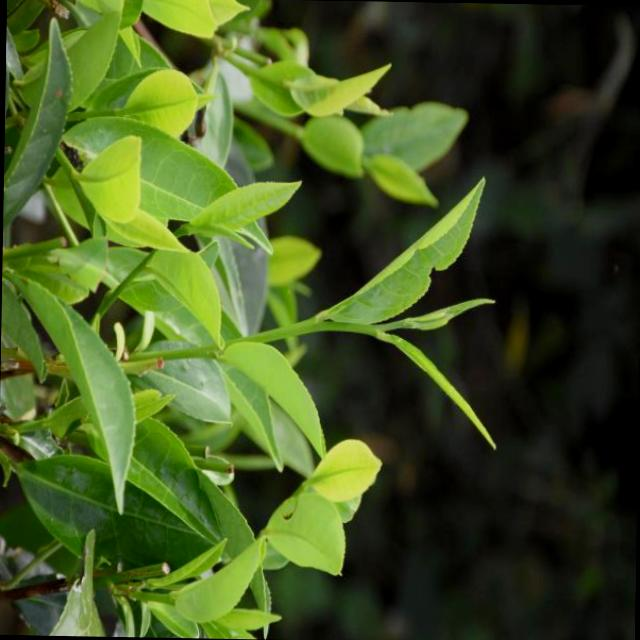Stem: (366, 324, 381, 334)
